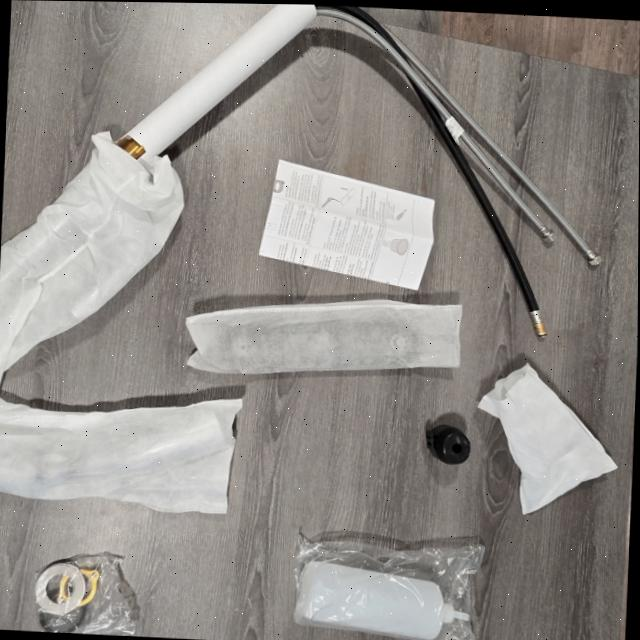1c: (0, 4, 600, 381), (0, 398, 241, 513)
2c: (478, 363, 617, 514)
3: (292, 534, 484, 640)
4c: (186, 299, 461, 373)
5: (425, 425, 470, 464)
6: (34, 553, 138, 634)
8: (259, 159, 434, 290)
